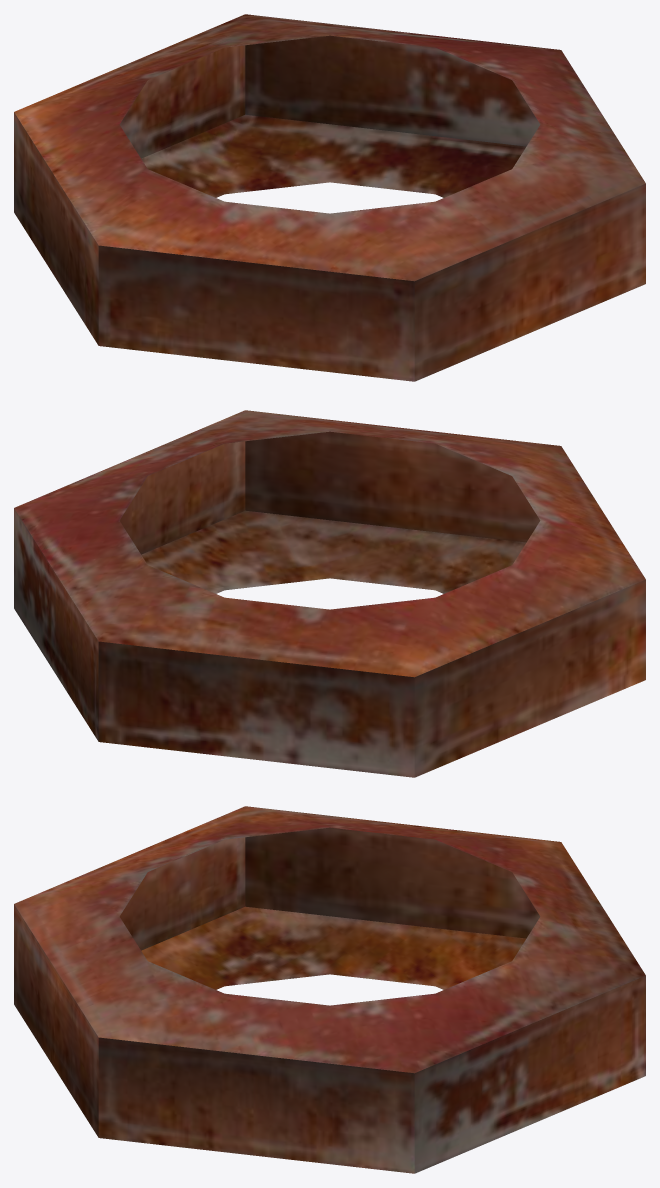
Rendered from stylized_pipe_13.glb.
3 views of the same model, one above another, from view 1: azimuth 30°, elevation 25°; view 2: azimuth 150°, elevation 25°; view 3: azimuth 270°, elevation 25° (orthographic).
Visible parts, largest first — view 1: stylized_pipe_13; view 2: stylized_pipe_13; view 3: stylized_pipe_13.
Boxes of the visible parts, x1=… form: stylized_pipe_13: x1=14, y1=14, x2=645, y2=381; stylized_pipe_13: x1=14, y1=410, x2=645, y2=777; stylized_pipe_13: x1=14, y1=806, x2=645, y2=1173.
Size of what is drawn, in the model's own units: 0.125 by 0.032 by 0.125.
1 material, 1 textured.
